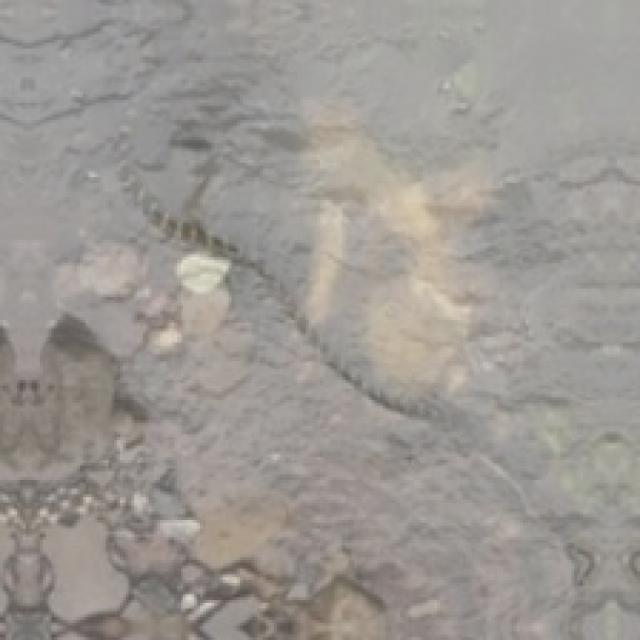mangrove cat snake: (135, 188, 470, 449)
